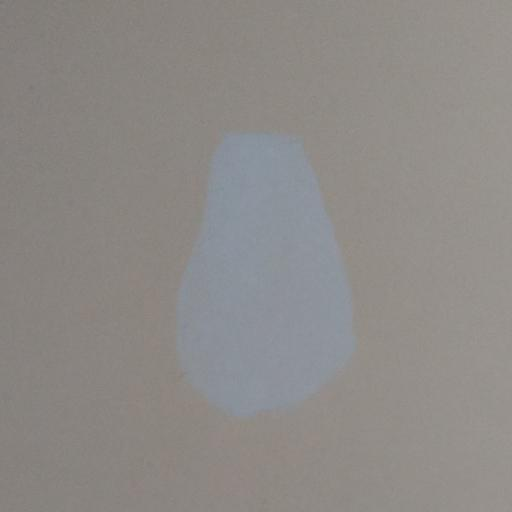stain: (149, 85, 425, 440)
